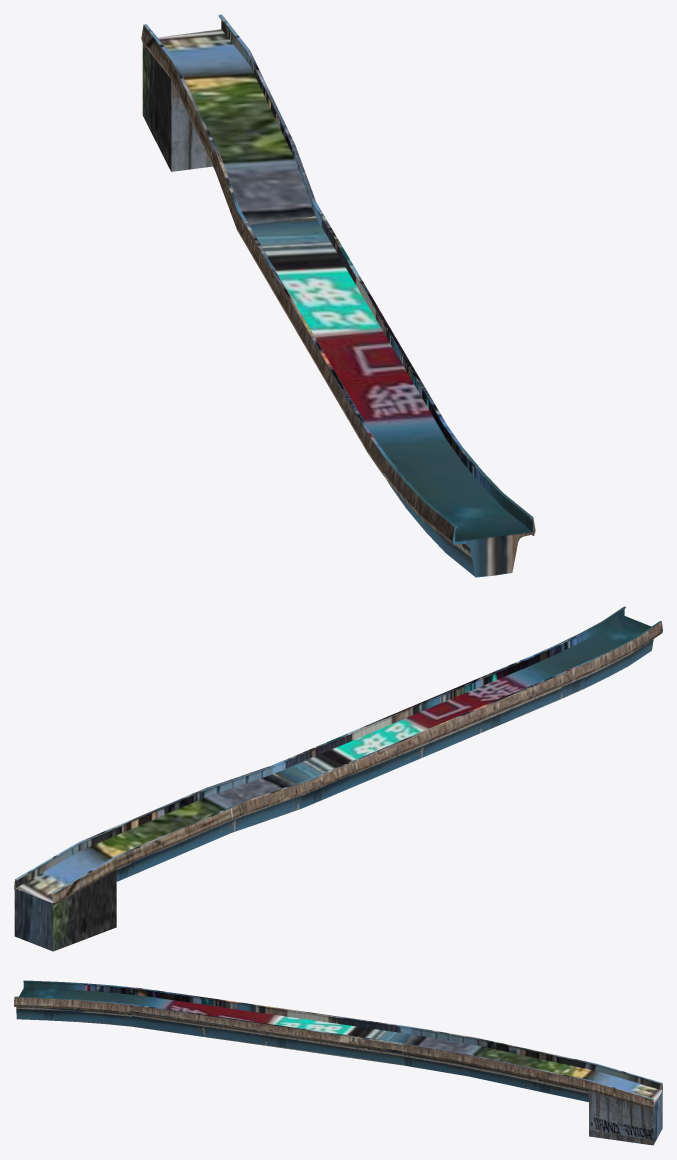
File: highway_1.fbx
3 renders of one model, top to bottom at view 1: azimuth 30°, elevation 25°; view 2: azimuth 150°, elevation 25°; view 3: azimuth 270°, elevation 25°, orthographic. The views are drawn at different scales.
Parts seen in each view (by area): view 1: highway2.002; view 2: highway2.002; view 3: highway2.002.
Boxes of the visible parts, x1,y1,x2,y2 form: highway2.002: [141, 14, 535, 577]; highway2.002: [14, 606, 662, 951]; highway2.002: [14, 980, 662, 1145].
Bounding box in the file's own units: 2342 × 760 × 6567.
Materials: 1 (1 with a texture image).
